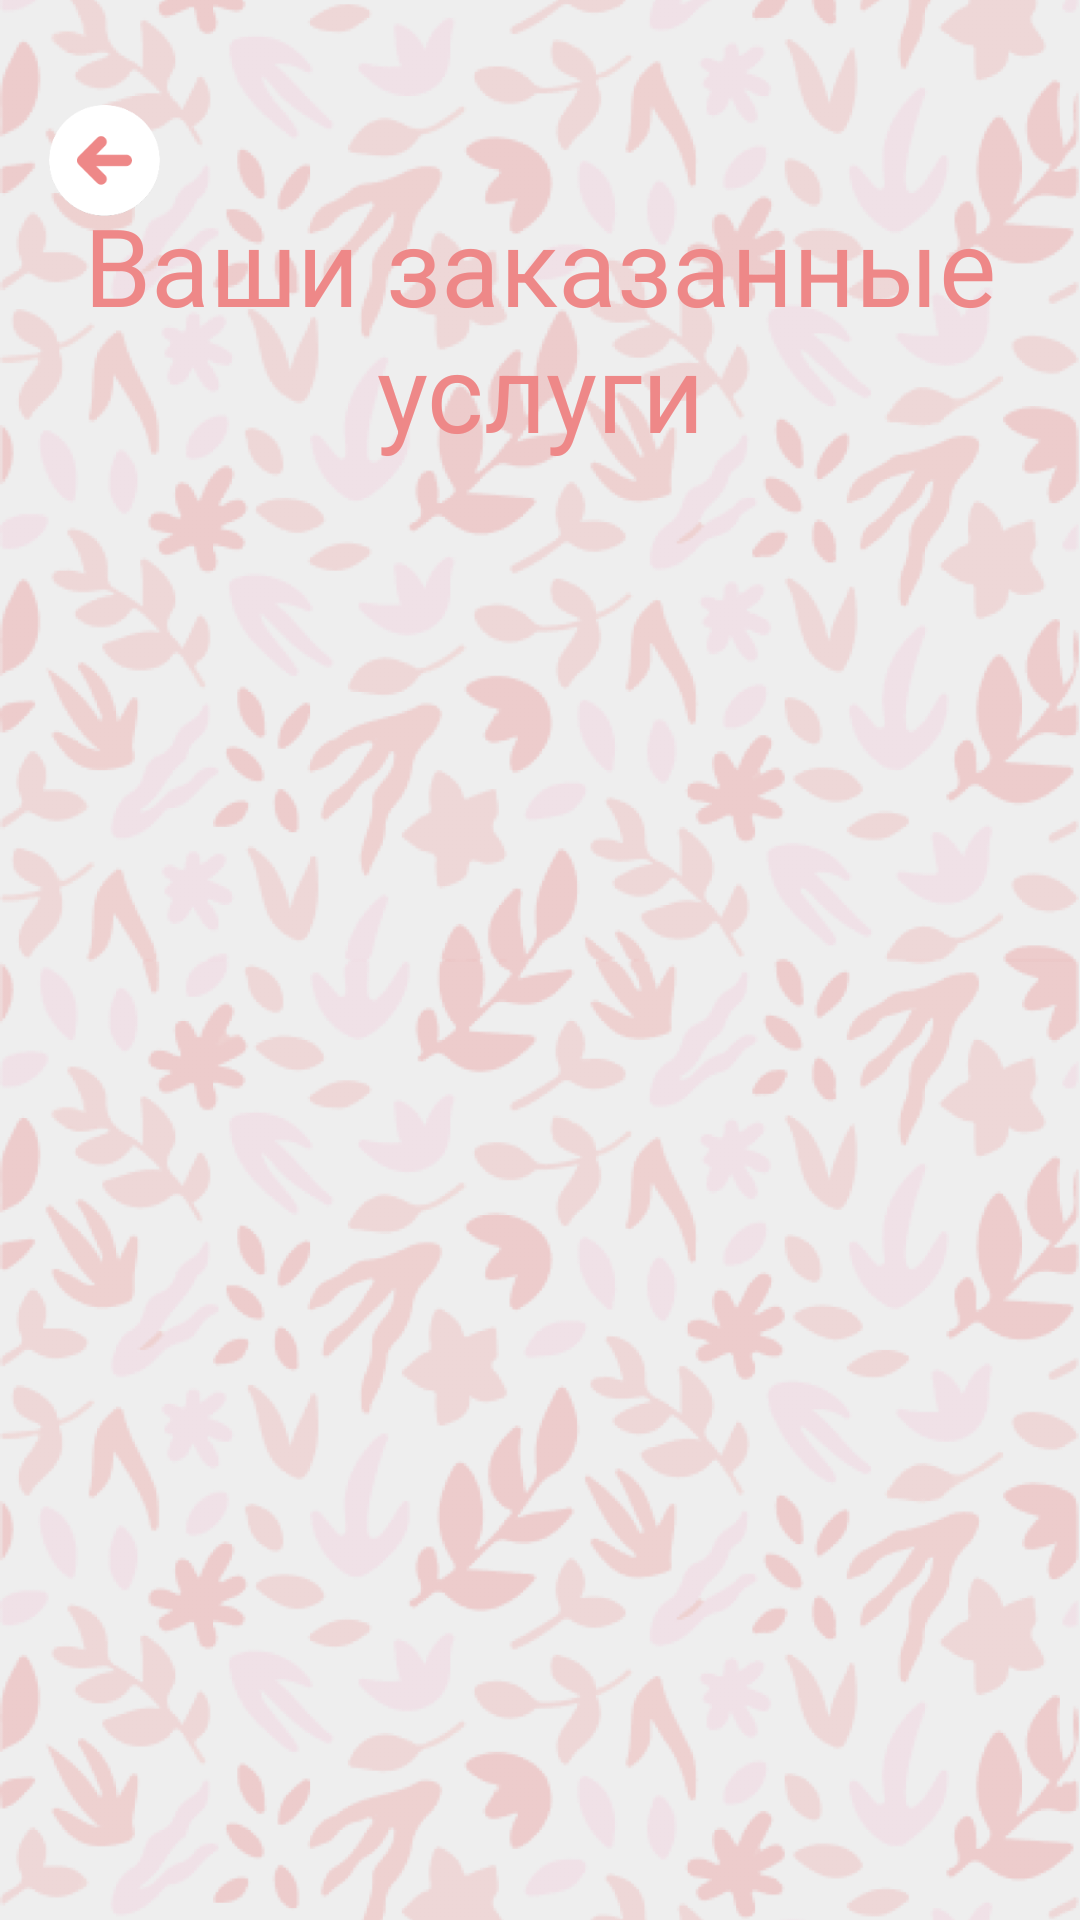

Icon click points for this 1080×1920 phone screenshot, format point (x, y):
back arrow: point (104, 160)
